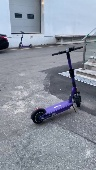beam: (31, 45, 84, 125), (17, 29, 34, 50)
